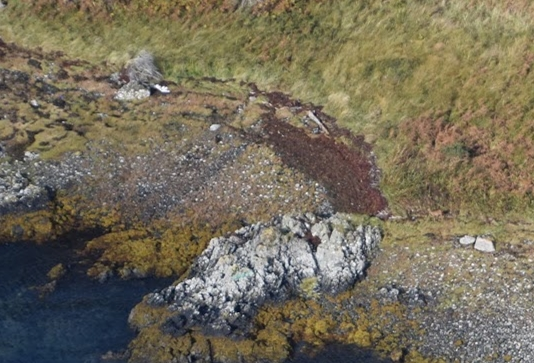straight_bar: (300, 106, 338, 142)
